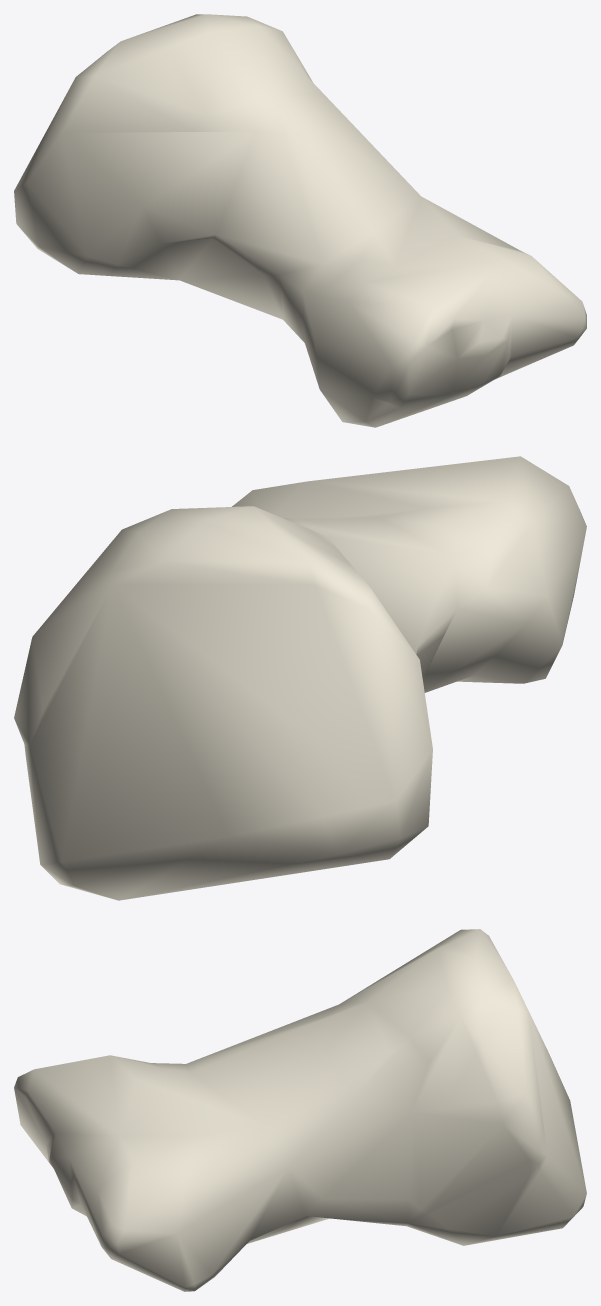
The picture shows the model from 3 angles, top to bottom: view 1: azimuth 30°, elevation 25°; view 2: azimuth 150°, elevation 25°; view 3: azimuth 270°, elevation 25°; orthographic projection. The views are drawn at different scales.
Visible parts, largest first — view 1: ZA_d0a388cf29f70a0d; view 2: ZA_d0a388cf29f70a0d; view 3: ZA_d0a388cf29f70a0d.
Boxes of the visible parts, box(x1,y1,x2,y2) form: ZA_d0a388cf29f70a0d: box(14, 14, 586, 427); ZA_d0a388cf29f70a0d: box(14, 456, 586, 900); ZA_d0a388cf29f70a0d: box(14, 929, 586, 1291).
Size of the model in its own units: 0.0123 by 0.00908 by 0.0176.
